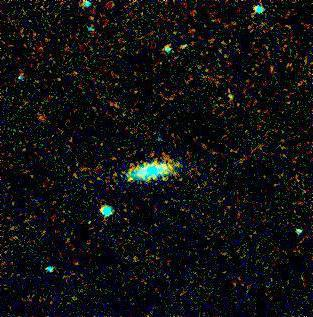star: (217, 84, 247, 114)
